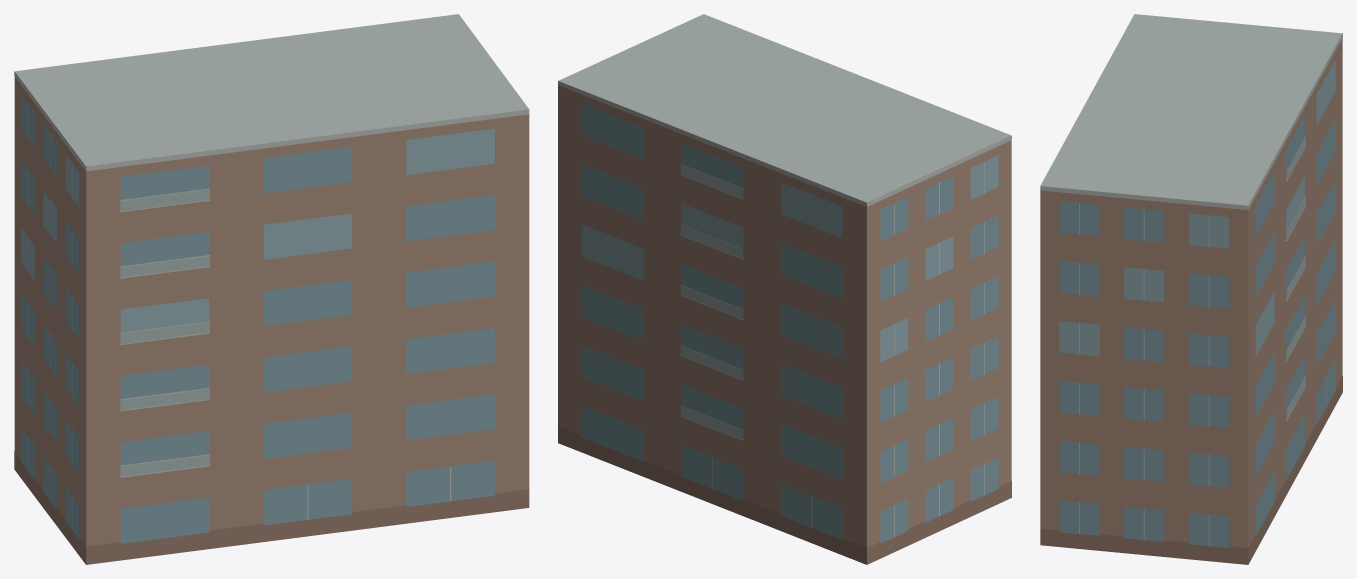
The model's file is survey-upis-32919212.glb.
The picture shows the model from 3 angles, left to right: view 1: azimuth 30°, elevation 25°; view 2: azimuth 150°, elevation 25°; view 3: azimuth 270°, elevation 25°; orthographic projection. The views are drawn at different scales.
Visible parts, largest first — view 1: survey-upis-32919212.tmp; view 2: survey-upis-32919212.tmp; view 3: survey-upis-32919212.tmp.
Boxes of the visible parts, x1,y1,x2,y2 form: survey-upis-32919212.tmp: (14, 14, 529, 564); survey-upis-32919212.tmp: (558, 14, 1011, 564); survey-upis-32919212.tmp: (1040, 14, 1342, 564).
Bounding box in the file's own units: 22.79 × 19.9 × 15.2.
